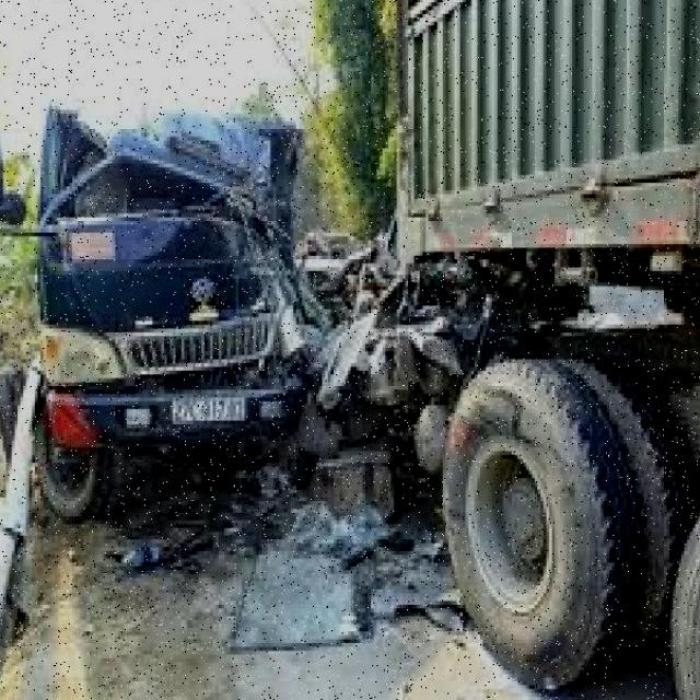Accident: (28, 63, 700, 570)
